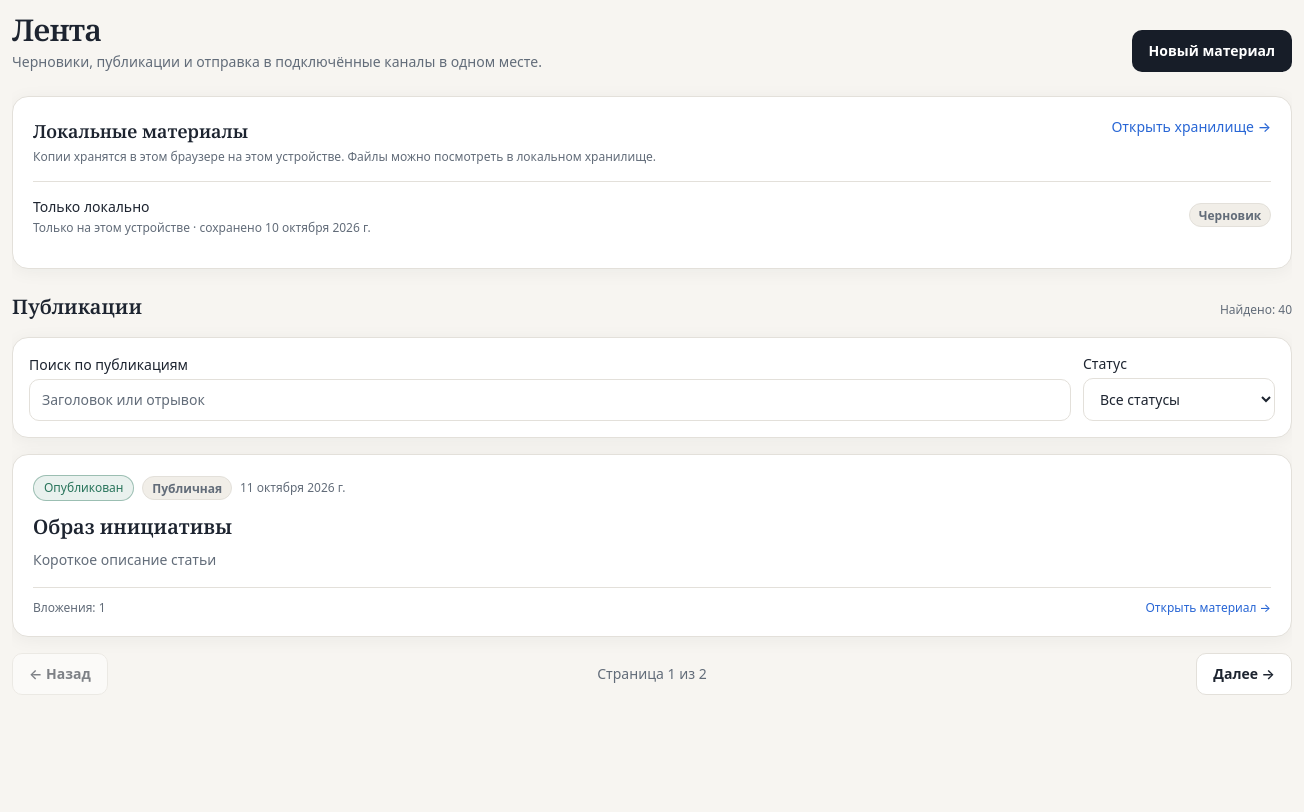
FeedPage › separates local copies and shows real post metadata with pagination
This screenshot has width=1304, height=812.
Expected: the link "Только локально" is shown, [33, 197, 150, 216]
Expected: the text "Только на этом устройстве" is shown, [33, 219, 190, 236]
Click the button "Далее →": (1244,674) [1196, 653, 1292, 695]
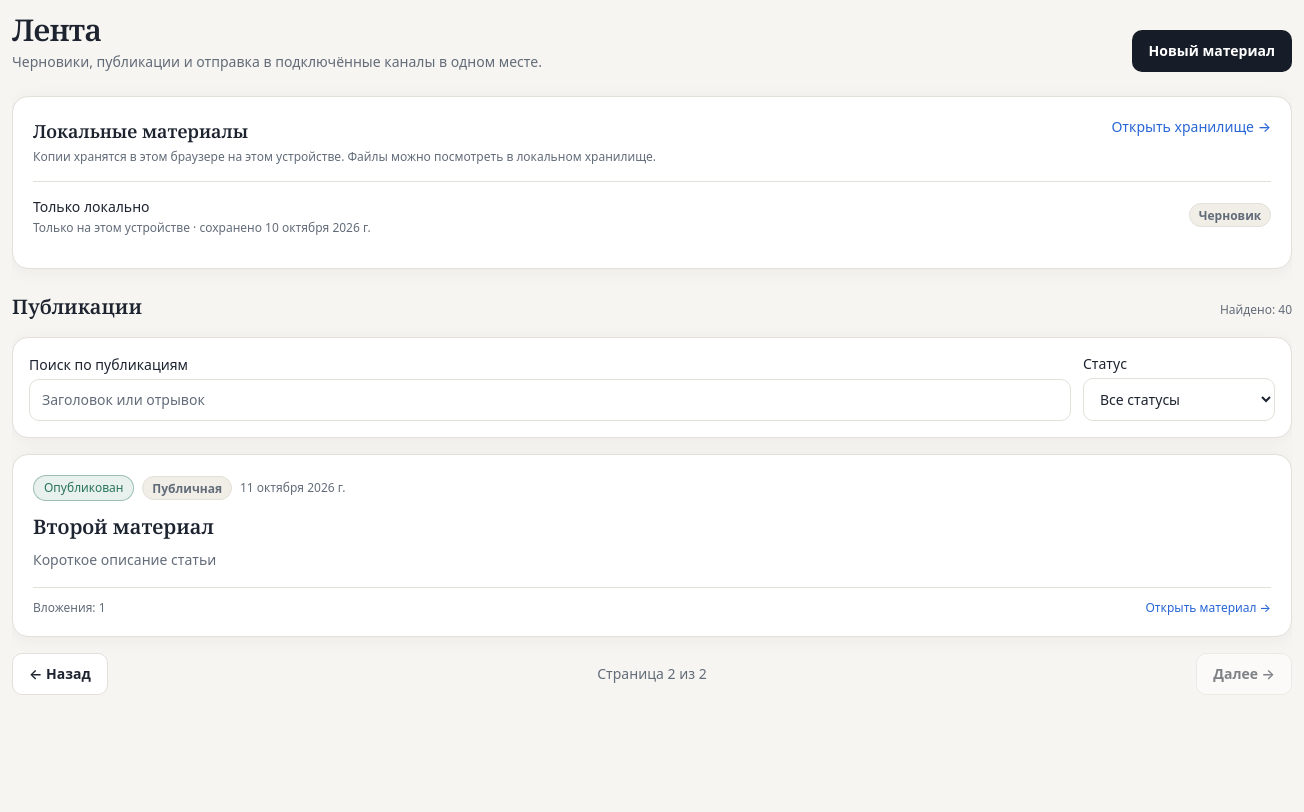
Now the link "Второй материал" is shown, box [33, 513, 214, 540]
